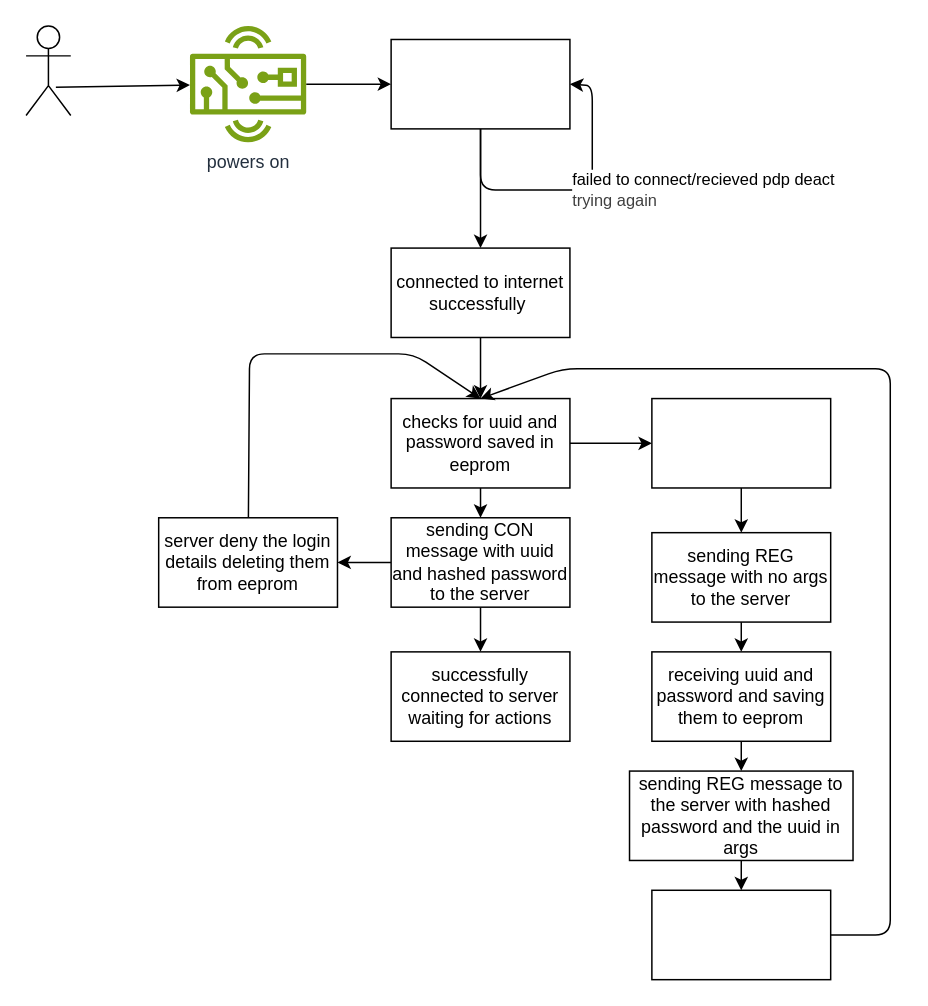
The diagram is 928 pixels wide and 1006 high, and some of its shapes have lost their labels. Here are the shapes that lost their labels. From the top down, the centre of each, then its label:
At (48,70): "user".
At (480,83): "trying to connect to network via sim".
At (740,442): "password/uuid not found".
At (740,934): "server saving the new client in the database".
